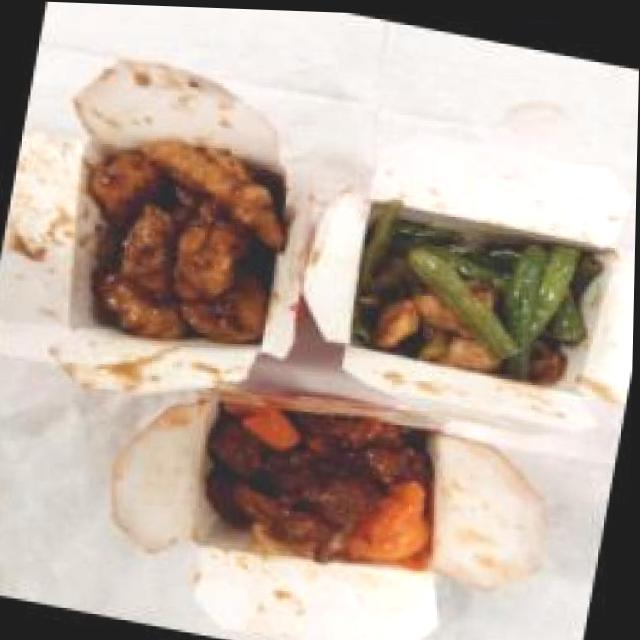Beijing Beef: (187, 376, 459, 587)
String Bean Chicken Breast: (340, 195, 612, 398)
The Original Orange Chicken: (62, 117, 311, 364)
